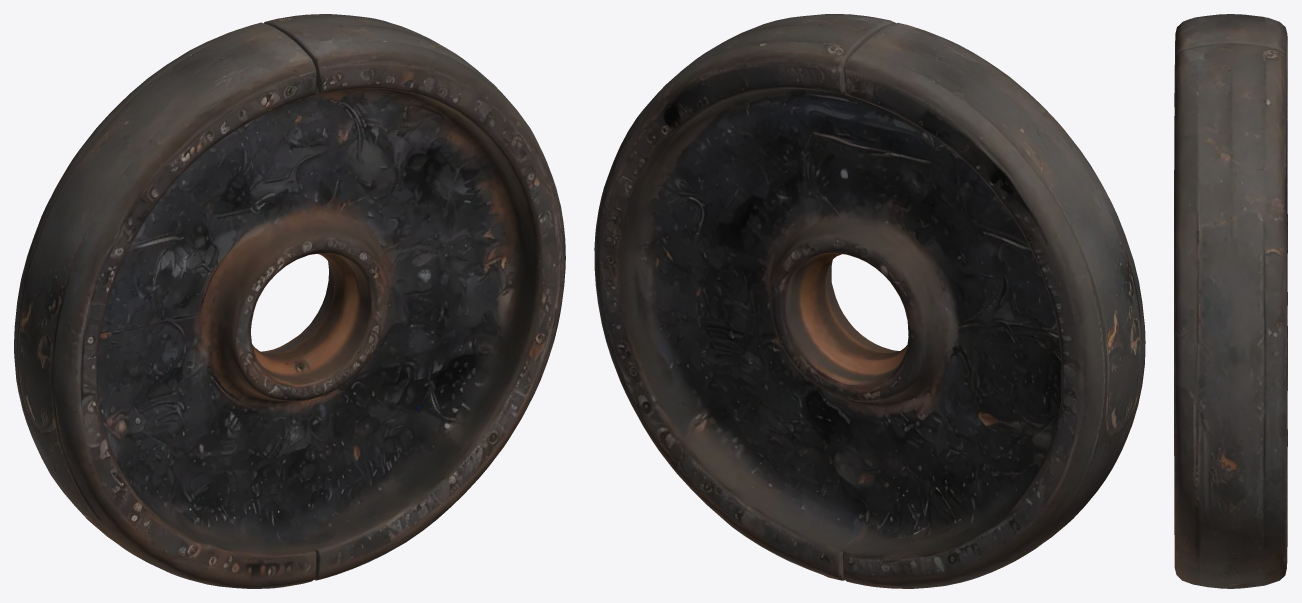
Rendered from prop-plate.glb.
3 renders of one model, left to right at view 1: azimuth 30°, elevation 25°; view 2: azimuth 150°, elevation 25°; view 3: azimuth 270°, elevation 25°, orthographic. The views are drawn at different scales.
Parts seen in each view (by area): view 1: tripo_node_f56c6690-b515-4ebb-bfca-65bbe416c007; view 2: tripo_node_f56c6690-b515-4ebb-bfca-65bbe416c007; view 3: tripo_node_f56c6690-b515-4ebb-bfca-65bbe416c007.
Boxes of the visible parts, box(x1,y1,x2,y2) form: tripo_node_f56c6690-b515-4ebb-bfca-65bbe416c007: box(14, 14, 565, 588); tripo_node_f56c6690-b515-4ebb-bfca-65bbe416c007: box(594, 14, 1145, 588); tripo_node_f56c6690-b515-4ebb-bfca-65bbe416c007: box(1174, 14, 1287, 588).
Bounding box in the file's own units: 1 × 0.9973 × 0.1988.
Materials: 1 (1 with a texture image).
